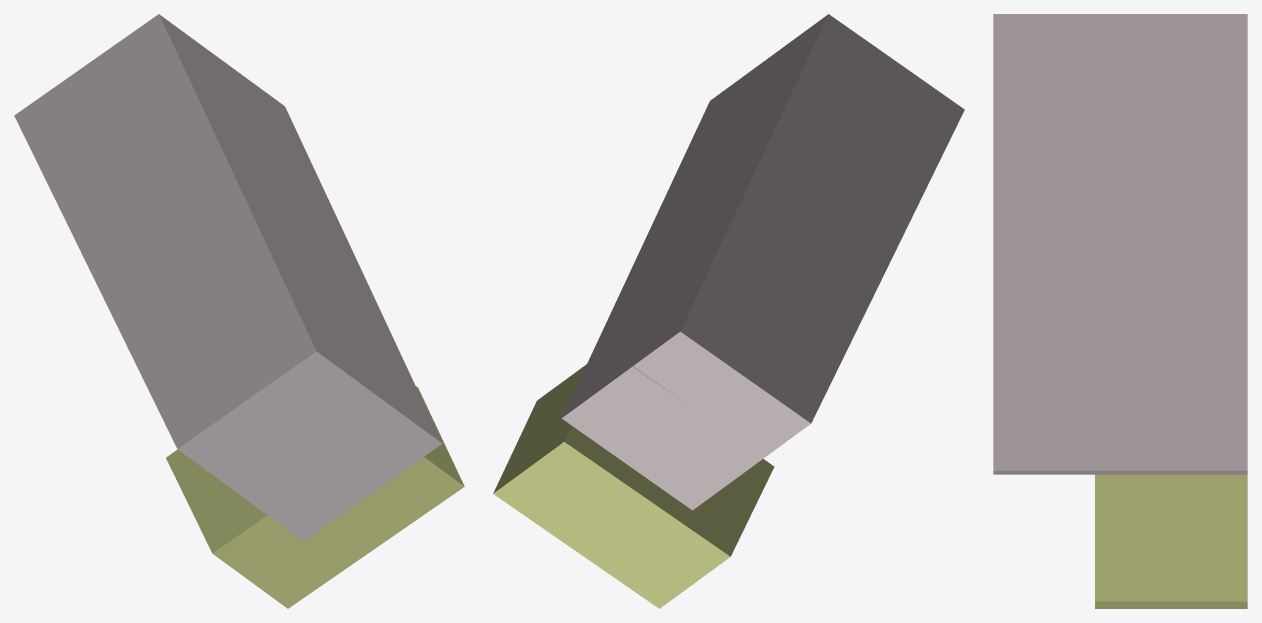
3 views of the same model, side by side, from view 1: azimuth 30°, elevation 25°; view 2: azimuth 150°, elevation 25°; view 3: azimuth 270°, elevation 25° (orthographic). The views are drawn at different scales.
Parts seen in each view (by area): view 1: 0_1_0_2_1_3_0_3_3; view 2: 0_1_0_2_1_3_0_3_3; view 3: 0_1_0_2_1_3_0_3_3.
Part boxes in pixels (x1=…): 0_1_0_2_1_3_0_3_3: x1=14, y1=14, x2=464, y2=608; 0_1_0_2_1_3_0_3_3: x1=493, y1=14, x2=964, y2=608; 0_1_0_2_1_3_0_3_3: x1=993, y1=14, x2=1247, y2=608.
Bounding box in the file's own units: 25.75 × 36.26 × 15.01.
